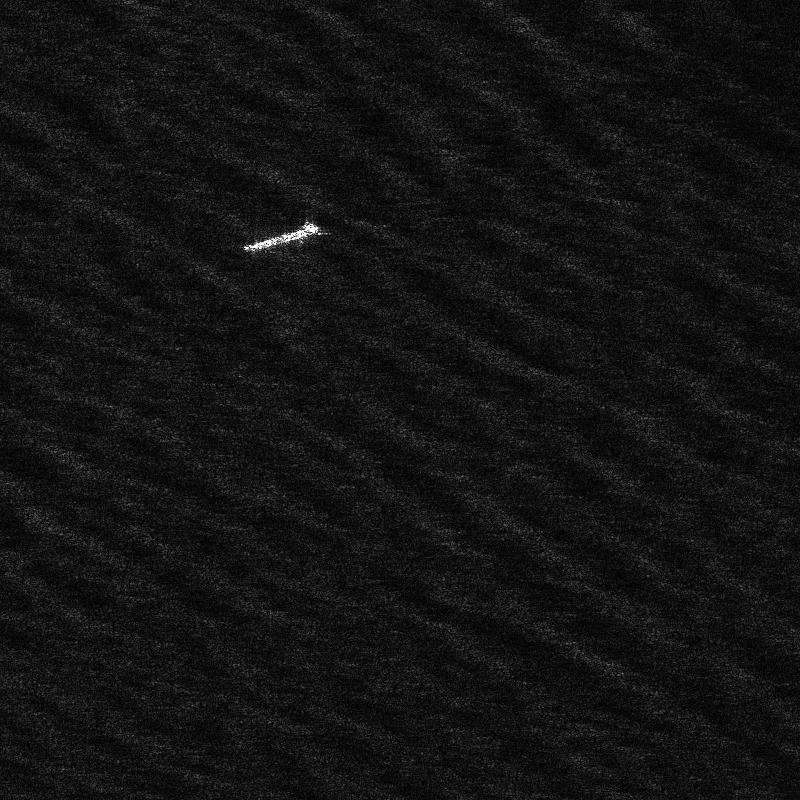ship: (242, 222, 318, 251)
